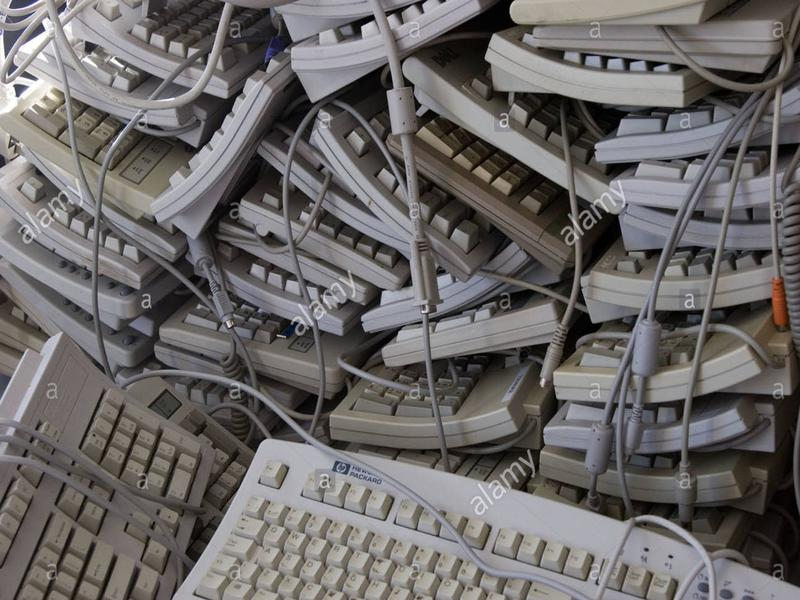keyboard: (178, 438, 800, 600), (1, 332, 212, 600)
